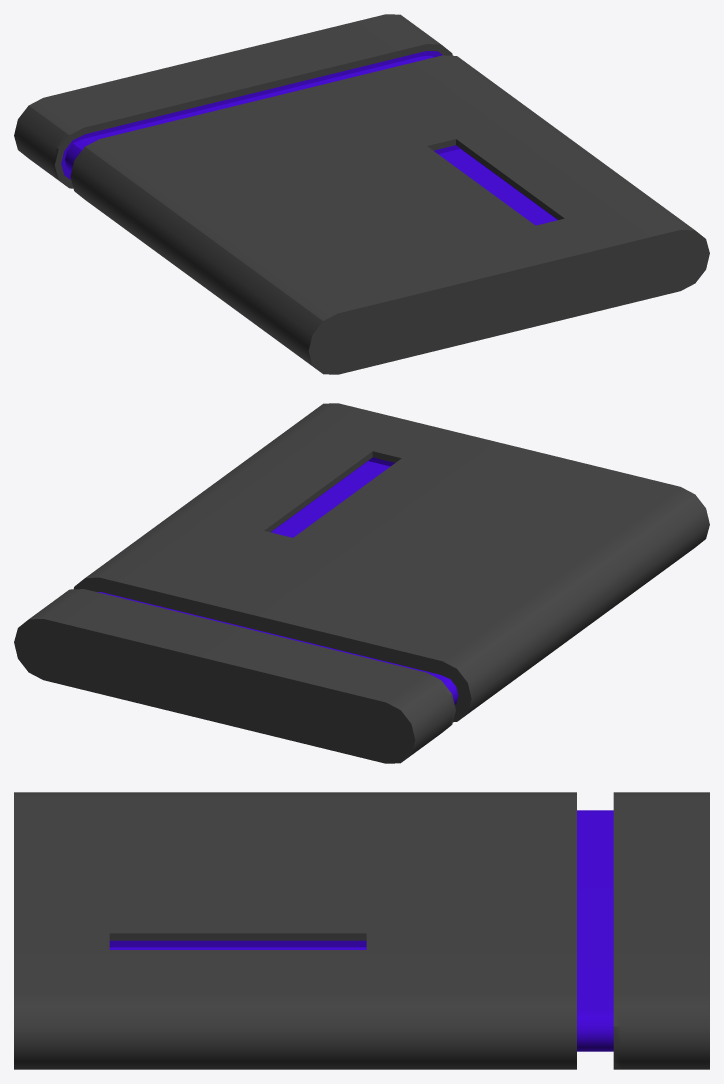
Rendered from Datadrive.fbx.
The picture shows the model from 3 angles, top to bottom: view 1: azimuth 30°, elevation 25°; view 2: azimuth 150°, elevation 25°; view 3: azimuth 270°, elevation 25°; orthographic projection. The views are drawn at different scales.
Parts seen in each view (by area): view 1: pCube1; view 2: pCube1; view 3: pCube1.
Boxes of the visible parts, <box> form: pCube1: <box>14,14,709,374</box>; pCube1: <box>14,403,709,763</box>; pCube1: <box>14,792,709,1069</box>.
Size of the model in its own units: 0.1662 by 0.0243 by 0.2114.
